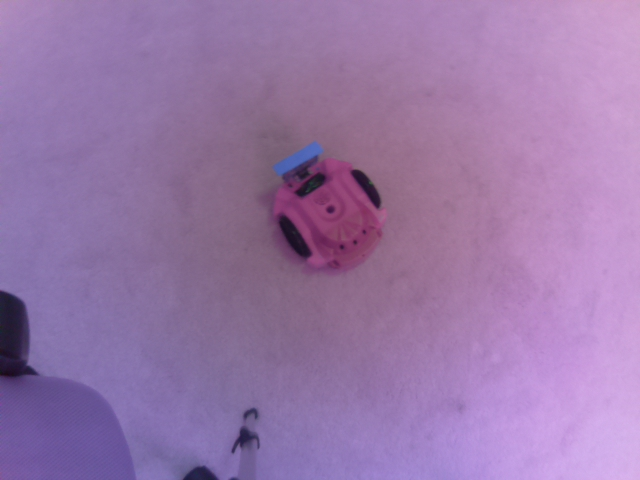board: (272, 142, 326, 183)
chassis: (265, 139, 390, 275)
